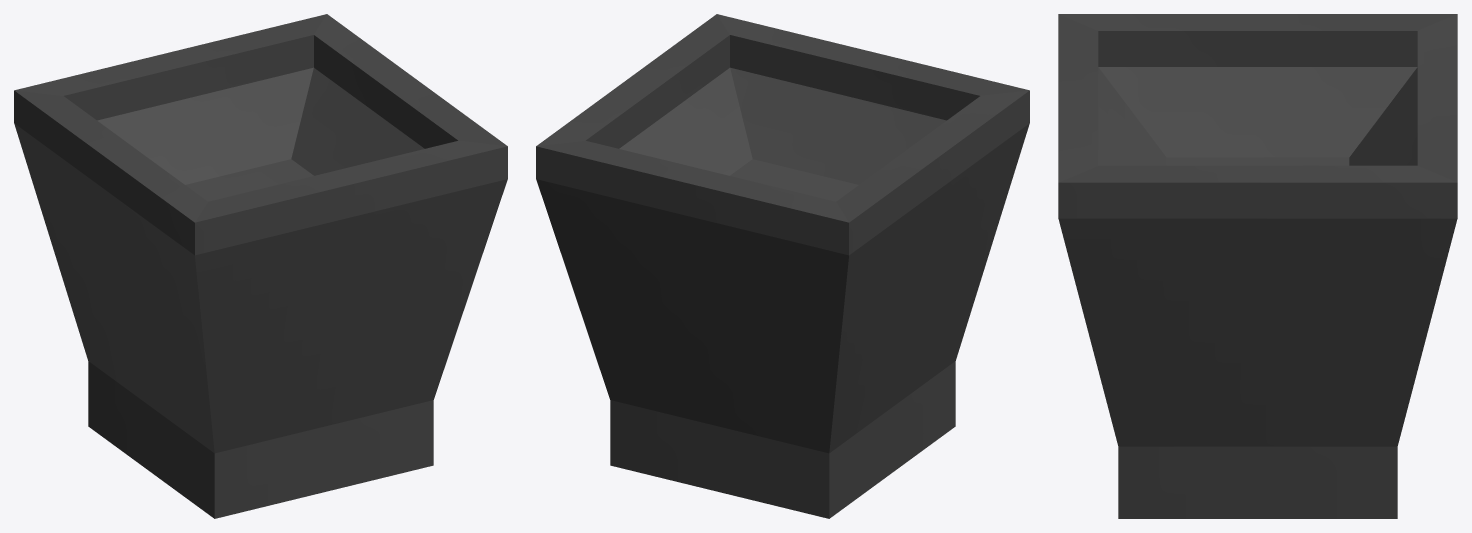
The model's file is chute.obj.
3 renders of one model, left to right at view 1: azimuth 30°, elevation 25°; view 2: azimuth 150°, elevation 25°; view 3: azimuth 270°, elevation 25°, orthographic. The views are drawn at different scales.
Visible parts, largest first — view 1: Chute_chutemdl; view 2: Chute_chutemdl; view 3: Chute_chutemdl.
Part boxes in pixels (left/top/right/bottom): Chute_chutemdl: left=14, top=14, right=507, bottom=518; Chute_chutemdl: left=536, top=14, right=1029, bottom=518; Chute_chutemdl: left=1058, top=14, right=1457, bottom=518.
Size of the model in its own units: 1 by 1 by 1.
